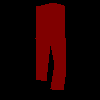abbigliamento_uomo: (35, 2, 66, 90)
